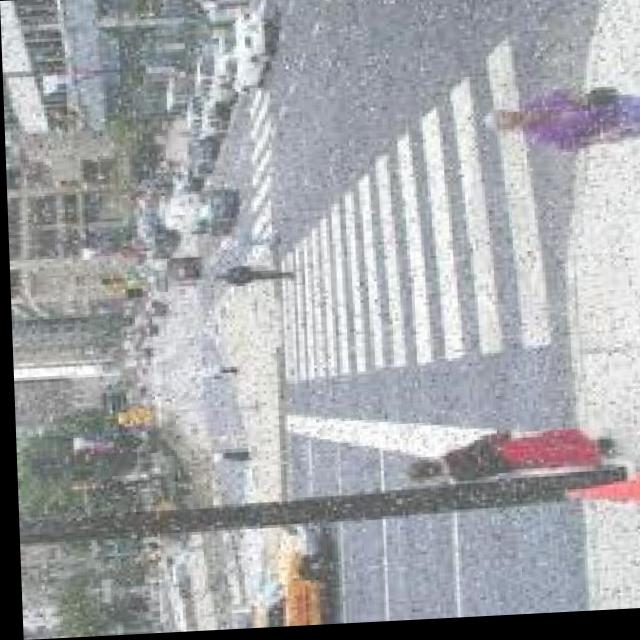zebra: (250, 19, 581, 404), (232, 32, 294, 270), (146, 319, 170, 429)
